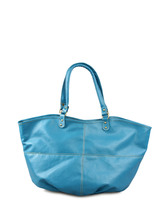bag: (14, 60, 154, 195)
